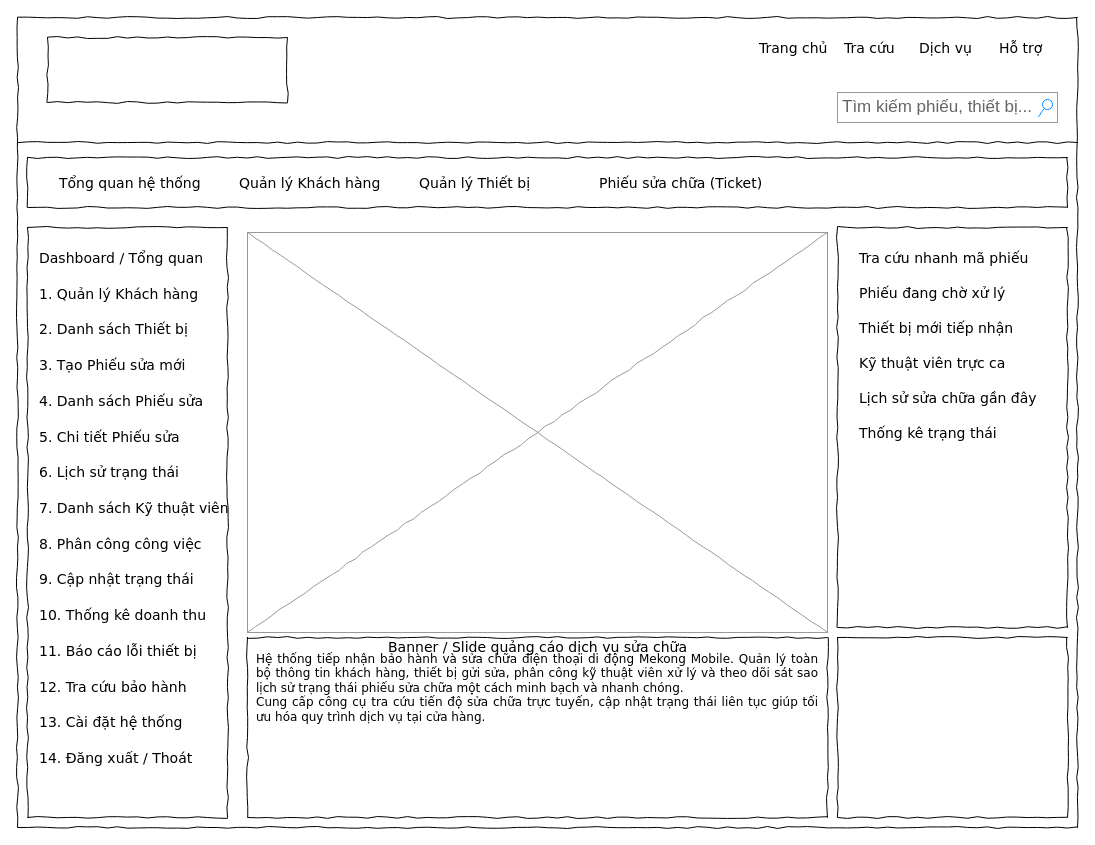
This 1095x845 diagram has some shape labels left out. Each missing label, with the centre of its shape:
"Liên kết nhanh" goes at point 952,727.
"MEKONG MOBILE" goes at point 167,69.
